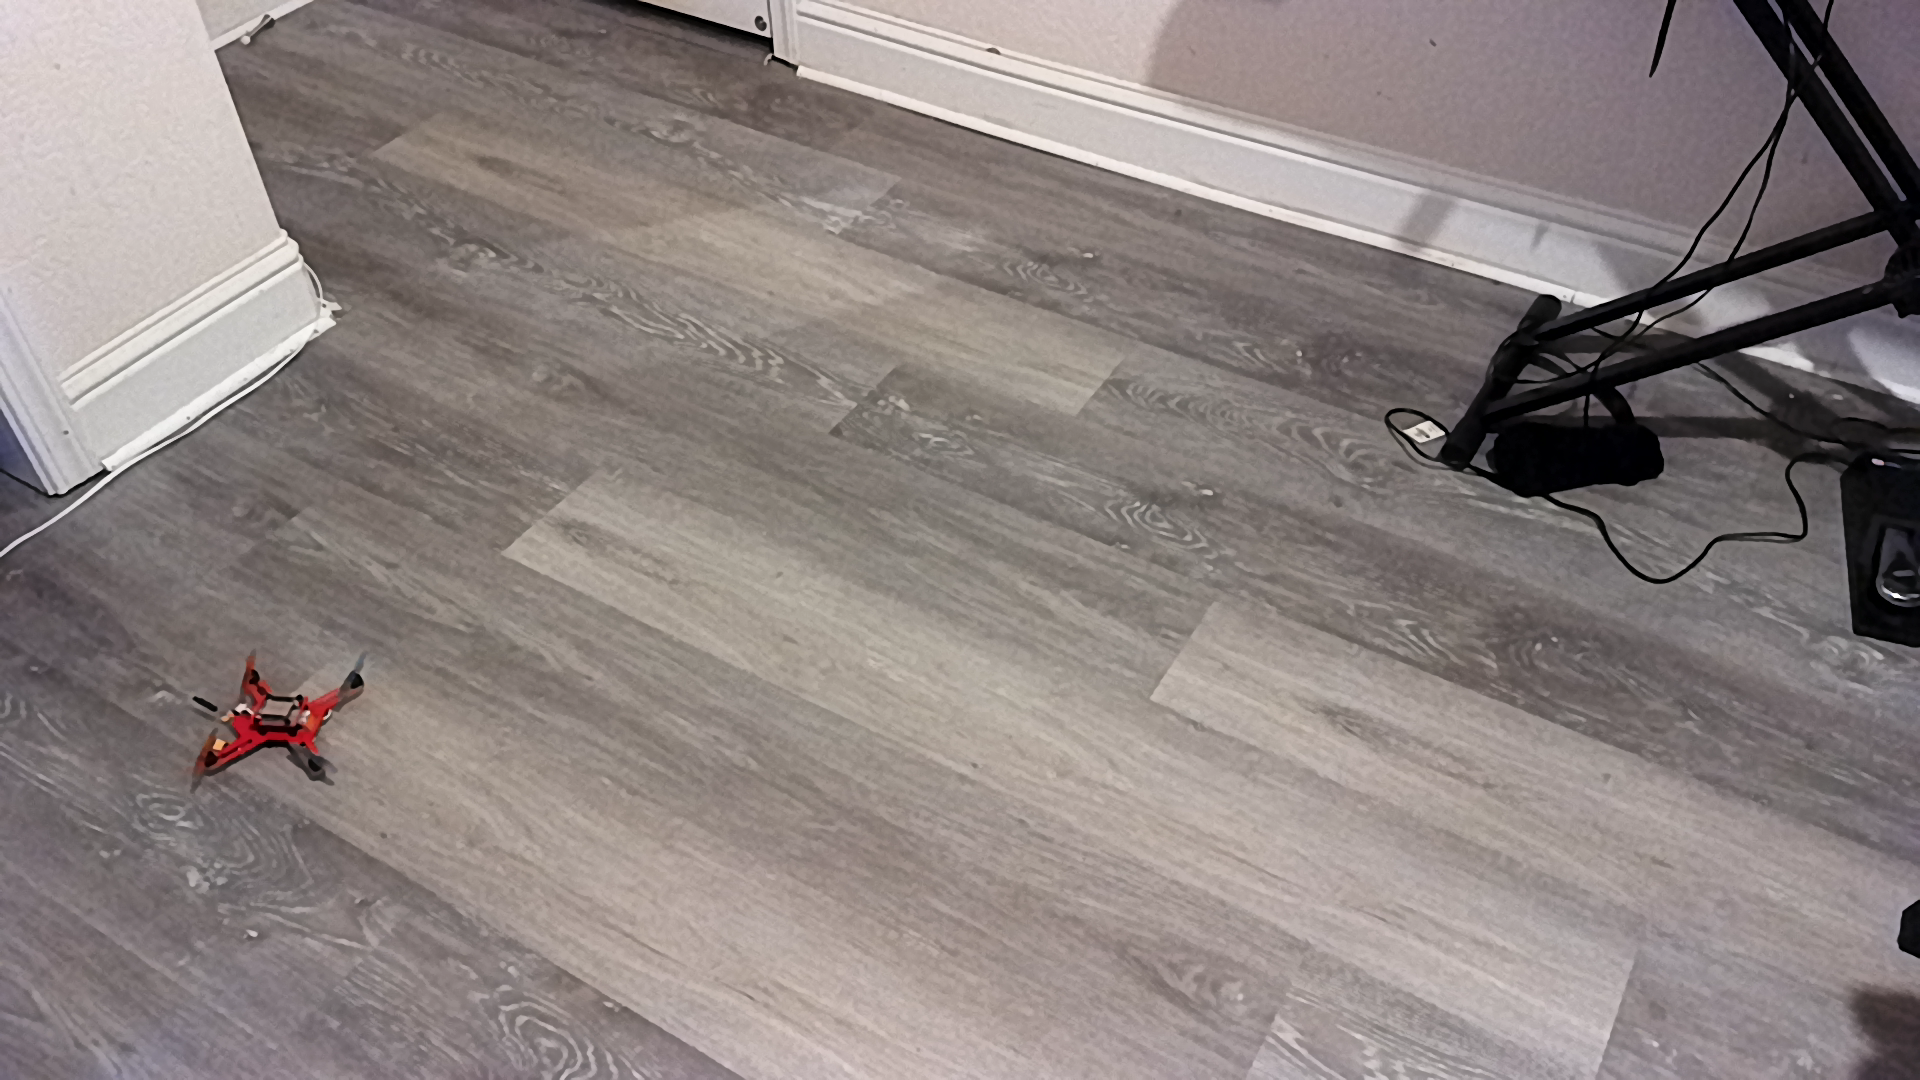drone: (164, 640, 402, 808)
